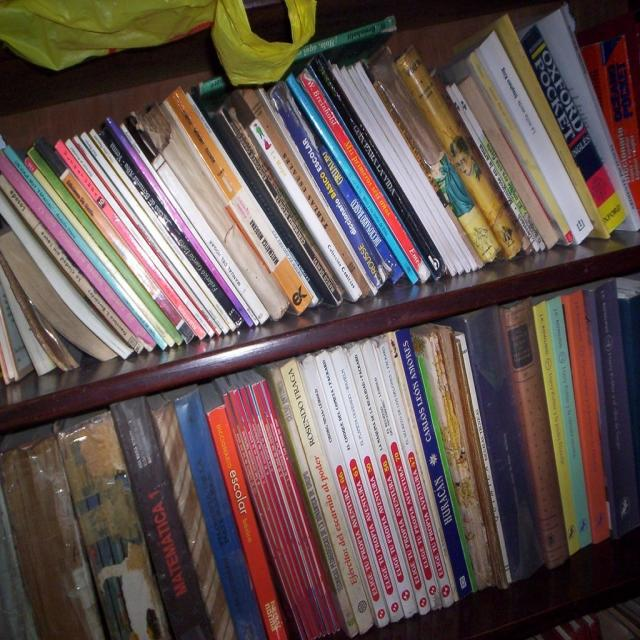book: (35, 135, 195, 343), (167, 87, 311, 314), (56, 140, 207, 339), (65, 139, 214, 336), (299, 69, 432, 282), (221, 107, 343, 305), (480, 29, 593, 242), (272, 369, 360, 639), (316, 351, 404, 620), (175, 390, 269, 639), (522, 25, 628, 234), (229, 391, 315, 639), (250, 123, 364, 302), (471, 52, 574, 243), (510, 299, 570, 572), (534, 300, 579, 557), (567, 288, 610, 543)
